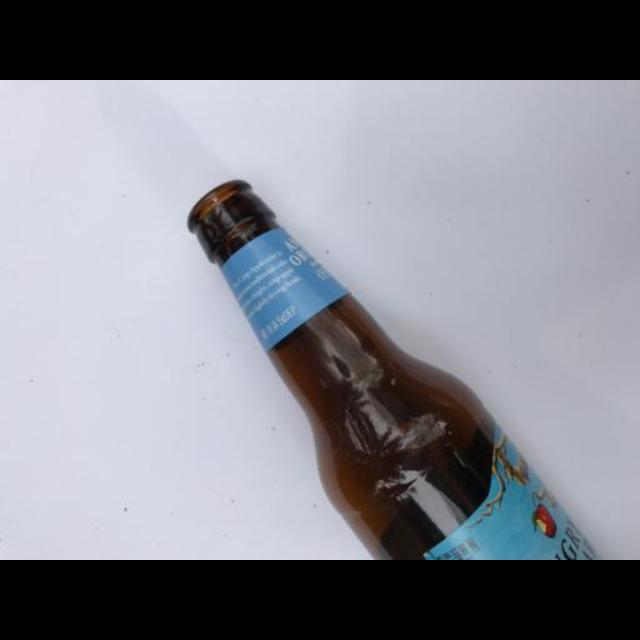garrafa de vidro: (188, 179, 600, 559)
